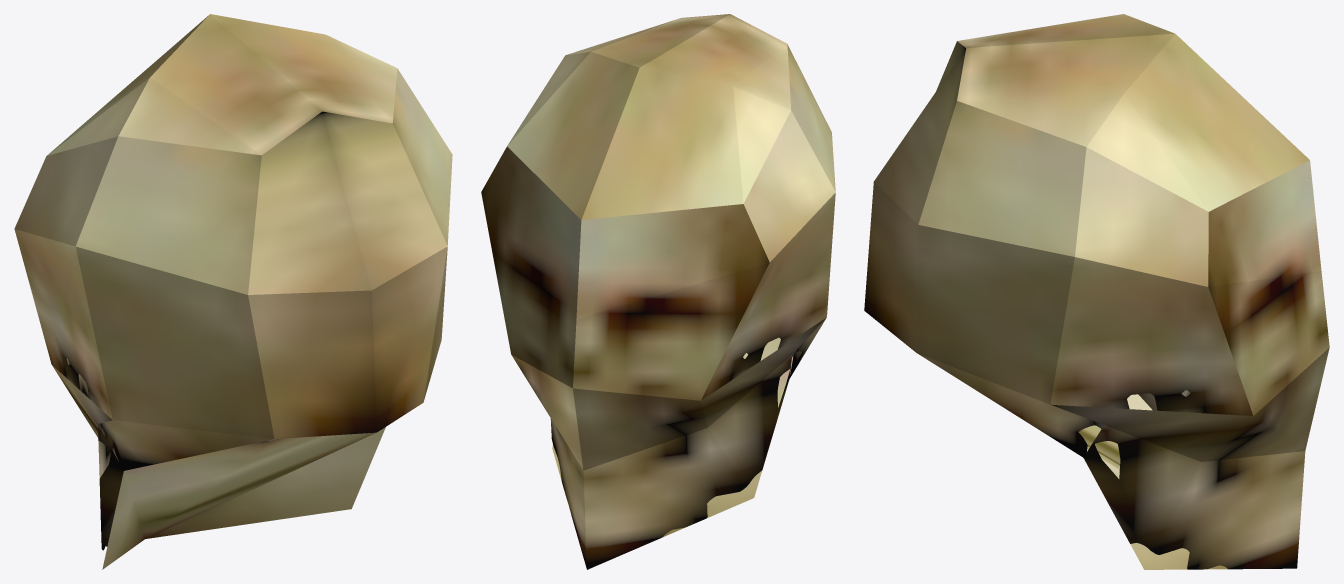
Rendered from Skeleton Skull.fbx.
3 views of the same model, side by side, from view 1: azimuth 30°, elevation 25°; view 2: azimuth 150°, elevation 25°; view 3: azimuth 270°, elevation 25° (orthographic). The views are drawn at different scales.
Parts seen in each view (by area): view 1: PSX_Skeleton_Master.001; view 2: PSX_Skeleton_Master.001; view 3: PSX_Skeleton_Master.001.
Boxes of the visible parts, x1,y1,x2,y2 form: PSX_Skeleton_Master.001: [14, 14, 452, 569]; PSX_Skeleton_Master.001: [481, 14, 835, 569]; PSX_Skeleton_Master.001: [864, 14, 1329, 569].
Bounding box in the file's own units: 17.48 × 25.38 × 20.01.
